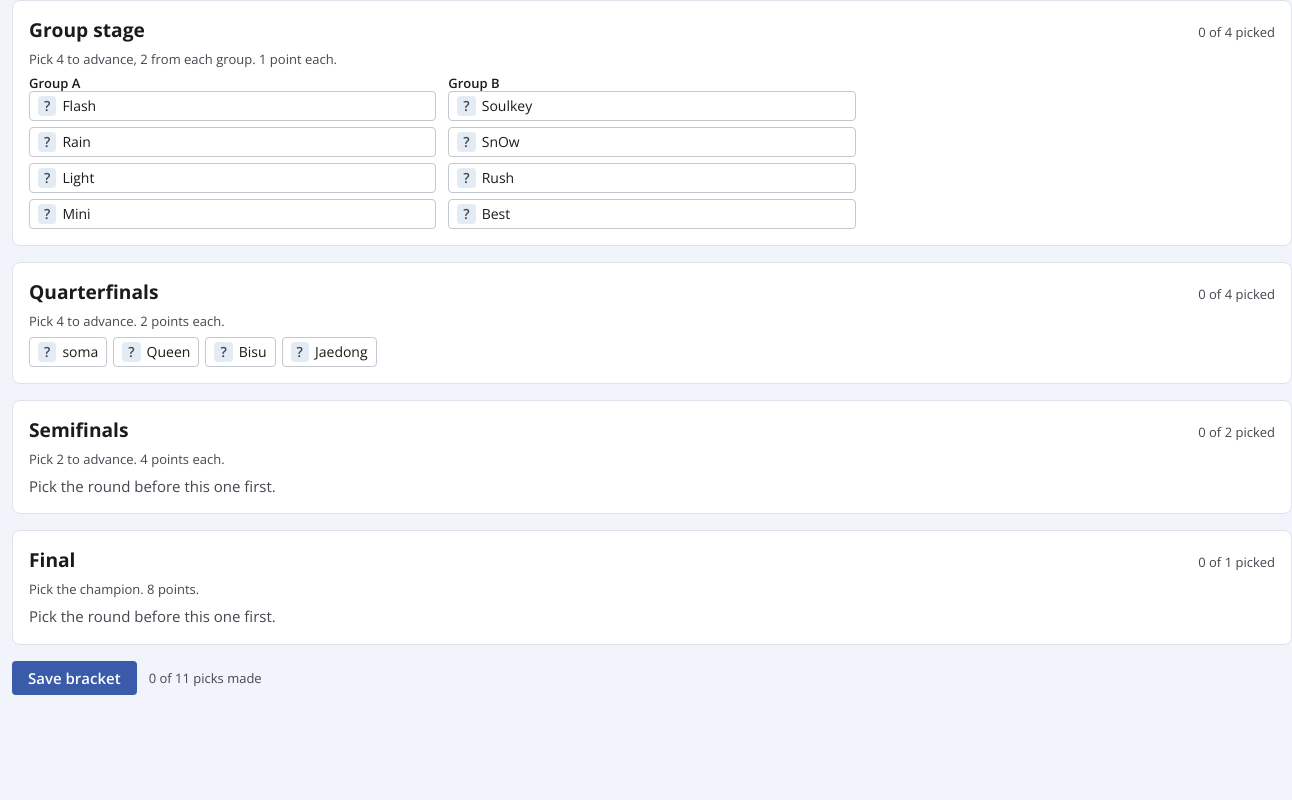
Scenario: BracketEditor › offers later rounds only the players advanced so far, plus the seeds
Expected: the text "Pick the round before this one first." below "Pick 2 to advance. 4 points each." is shown, [29,476,276,496]
Click the button "? Flash" at [79, 106], box [29,91,436,121]
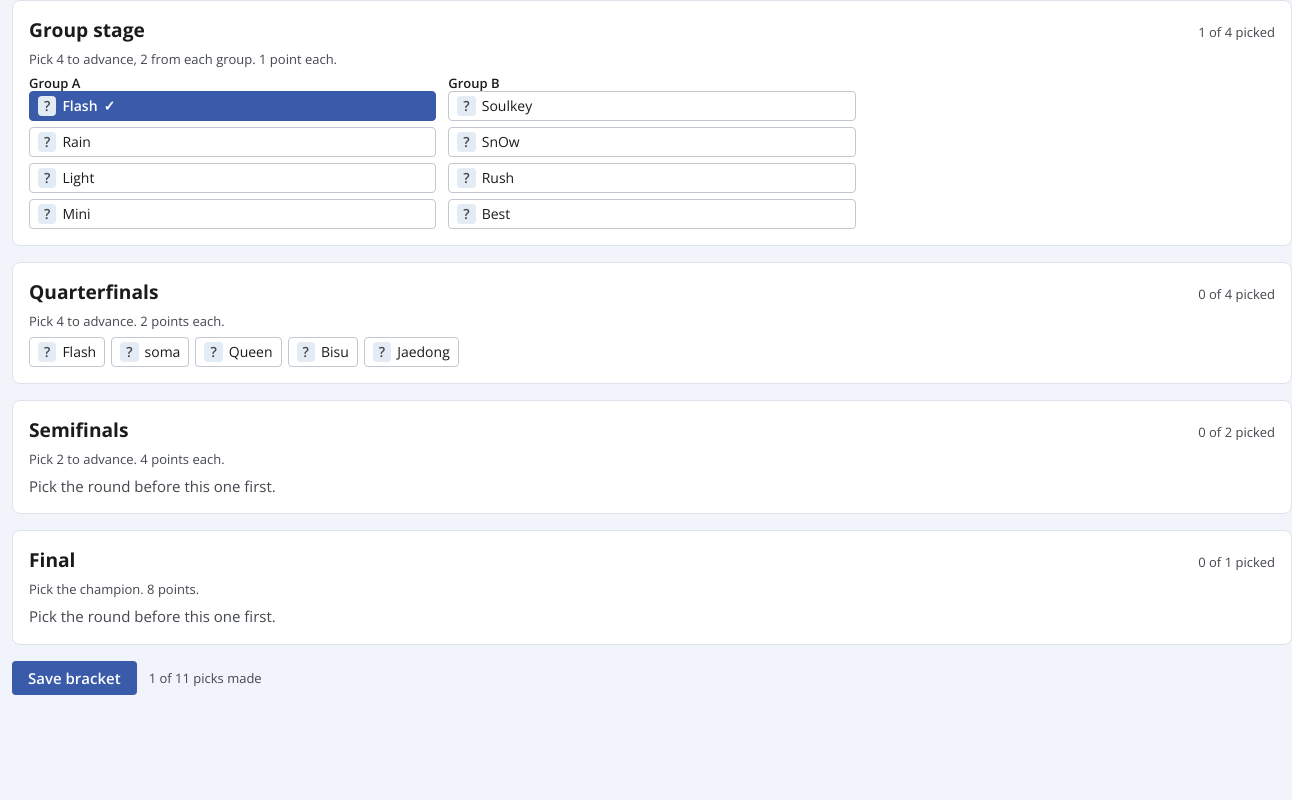
Expected: the button "? soma" is shown, [111,337,189,367]
Expected: the button "? Flash" is shown, [29,337,105,367]
